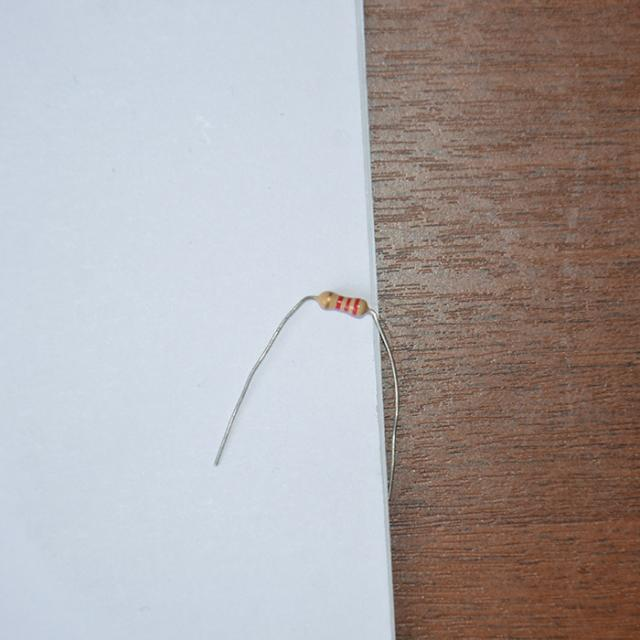gold: (325, 292, 332, 307)
red: (352, 299, 360, 315), (335, 296, 343, 309), (345, 298, 352, 312)
resistor: (312, 286, 378, 324)
